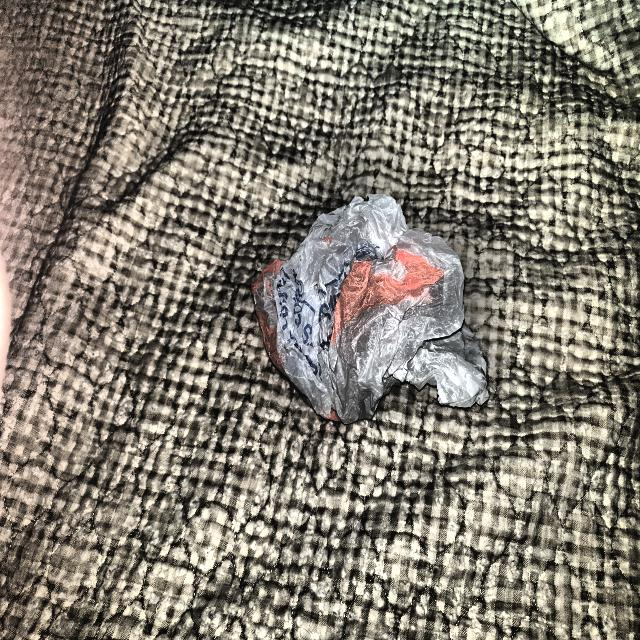plastic bag: (248, 188, 494, 438)
